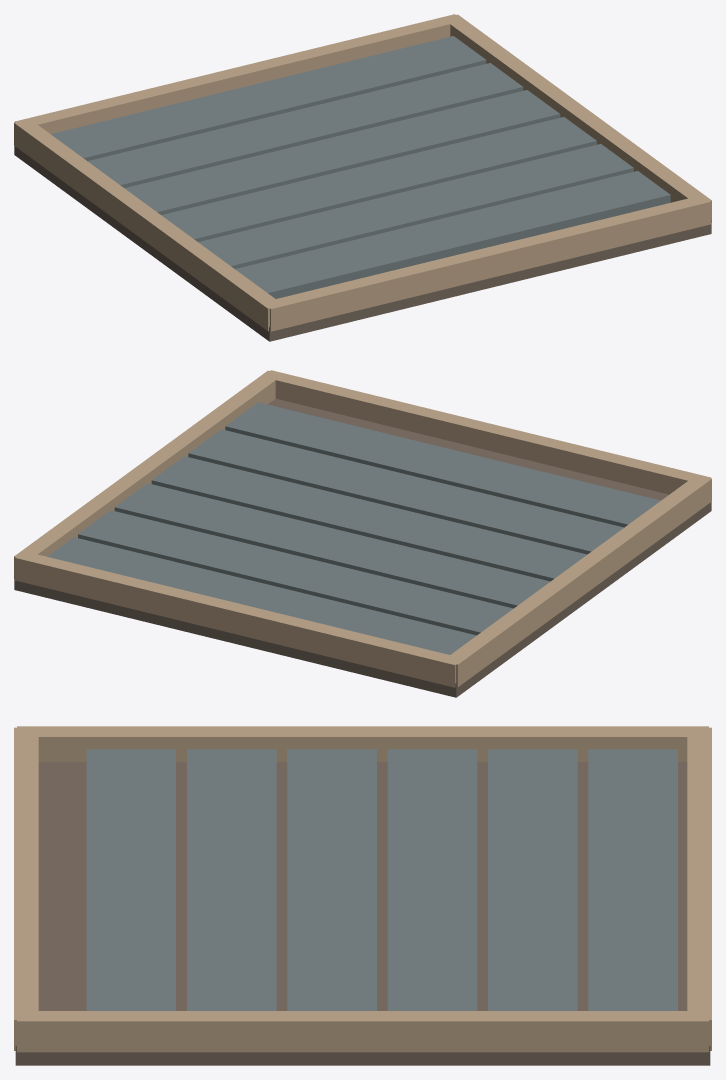
Rendered from roof_removable_4m.glb.
3 views of the same model, one above another, from view 1: azimuth 30°, elevation 25°; view 2: azimuth 150°, elevation 25°; view 3: azimuth 270°, elevation 25° (orthographic). The views are drawn at different scales.
Visible parts, largest first — view 1: metal_dark, wood_light, wood_dark; view 2: metal_dark, wood_light, wood_dark; view 3: metal_dark, wood_light, wood_dark.
Part boxes in pixels (x1,y1,x2,y2): metal_dark: [51, 36, 670, 298]; wood_light: [14, 14, 711, 331]; wood_dark: [14, 146, 711, 341]; metal_dark: [47, 402, 660, 654]; wood_light: [14, 370, 711, 687]; wood_dark: [14, 398, 711, 697]; metal_dark: [86, 749, 677, 1010]; wood_light: [14, 726, 711, 1052]; wood_dark: [15, 762, 710, 1065].
Bounding box in the file's own units: 4.52 × 0.32 × 4.52.
